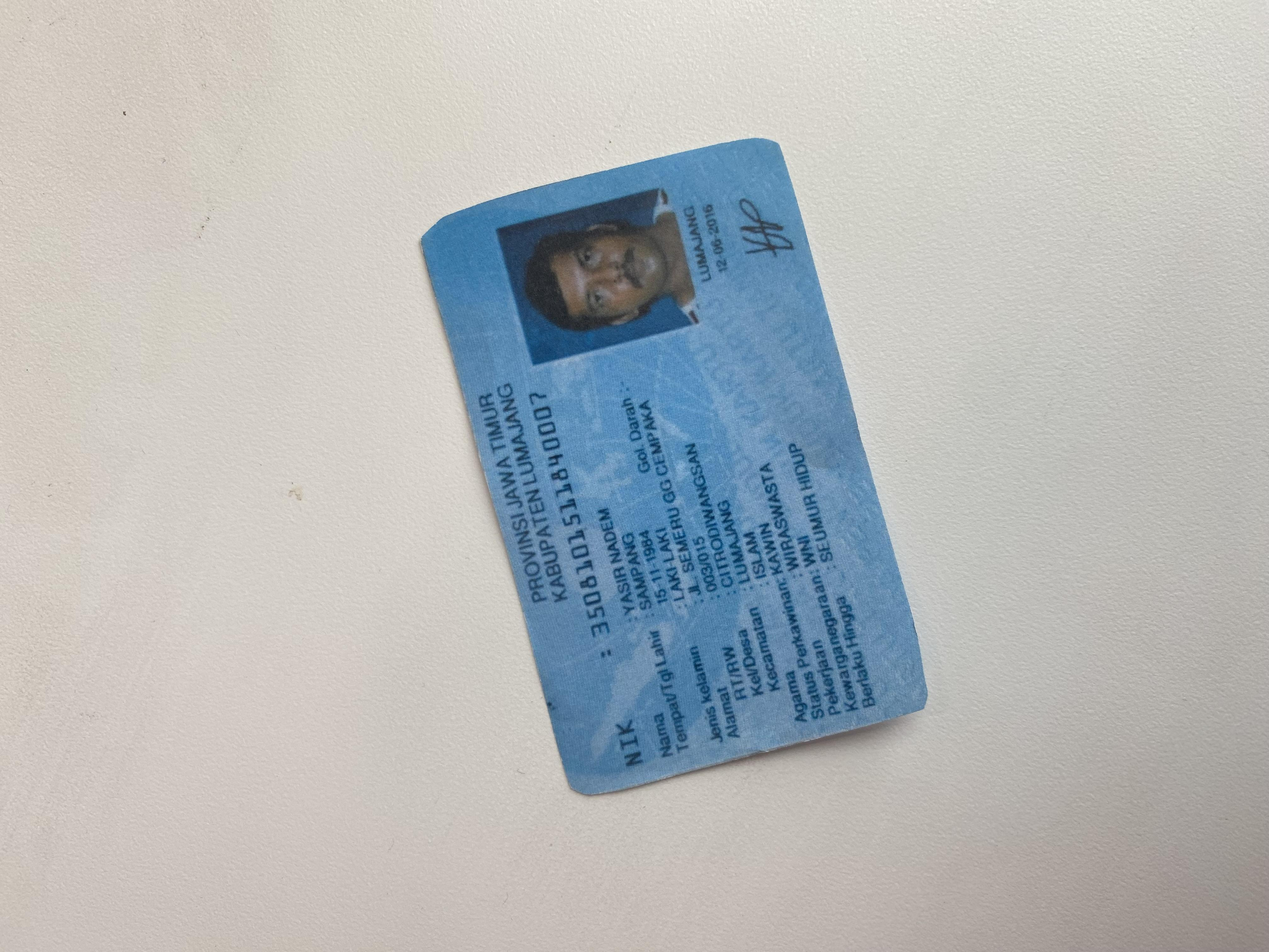ID-card: (191, 315, 1096, 691)
